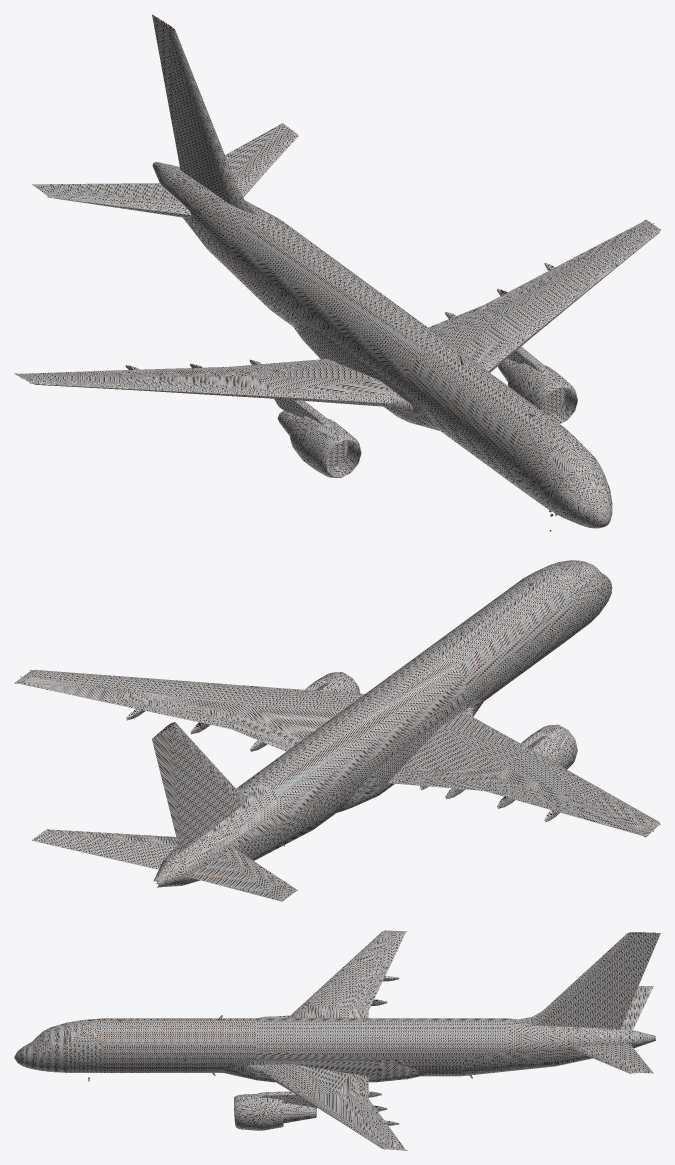
File: AIG_B757-200_PW_LOD1.gltf
The picture shows the model from 3 angles, top to bottom: view 1: azimuth 30°, elevation 25°; view 2: azimuth 150°, elevation 25°; view 3: azimuth 270°, elevation 25°; orthographic projection. The views are drawn at different scales.
Visible parts, largest first — view 1: fuselage_PW_low_LOD; view 2: fuselage_PW_low_LOD; view 3: fuselage_PW_low_LOD.
Part boxes in pixels (bbox=[...]): fuselage_PW_low_LOD: bbox=[14, 14, 660, 528]; fuselage_PW_low_LOD: bbox=[14, 560, 659, 901]; fuselage_PW_low_LOD: bbox=[14, 930, 660, 1150].
Size of the model in its own units: 38.11 by 12.91 by 47.34.
